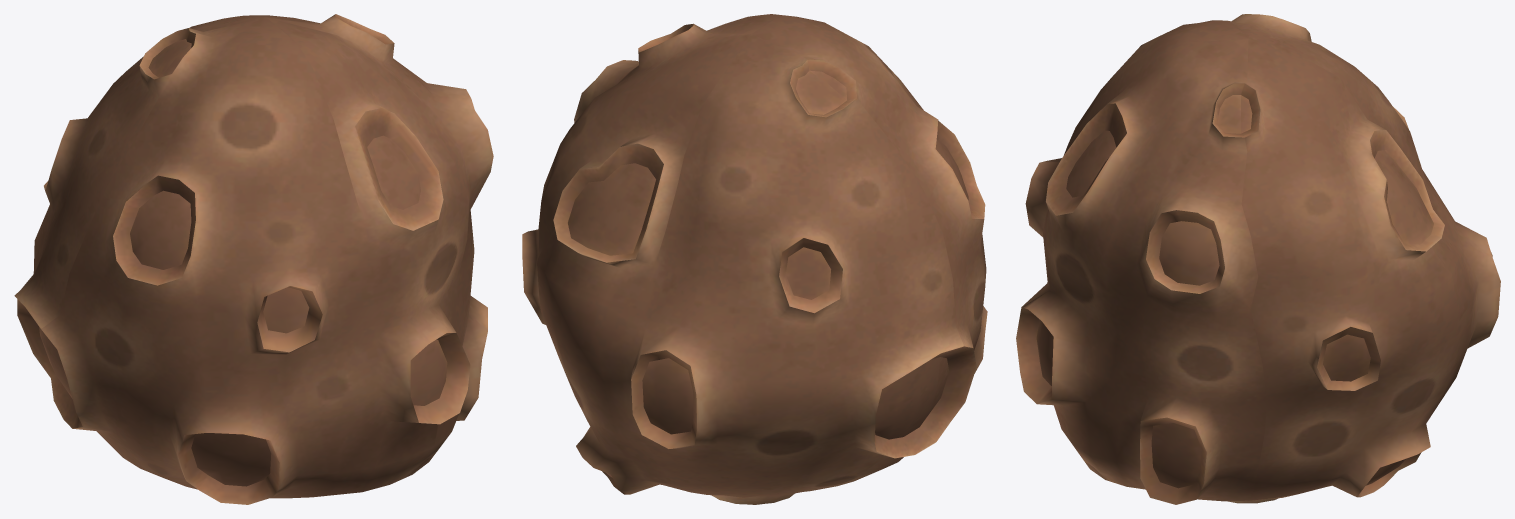
Rendered from Space_Meteor.fbx.
3 renders of one model, left to right at view 1: azimuth 30°, elevation 25°; view 2: azimuth 150°, elevation 25°; view 3: azimuth 270°, elevation 25°, orthographic. The views are drawn at different scales.
Parts seen in each view (by area): view 1: Space_Meteor; view 2: Space_Meteor; view 3: Space_Meteor.
Boxes of the visible parts, x1,y1,x2,y2 form: Space_Meteor: (14,14,493,504); Space_Meteor: (522,14,987,504); Space_Meteor: (1016,14,1500,504).
Size of the model in its own units: 0.7643 by 0.8101 by 0.8018.
1 material, 1 textured.
